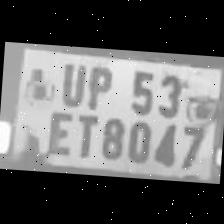0: (123, 113, 152, 163)
3: (153, 67, 184, 117)
4: (149, 115, 178, 166)
5: (122, 65, 156, 113)
7: (174, 117, 206, 168)
8: (95, 110, 126, 160)
E: (40, 104, 73, 158)
P: (81, 60, 115, 110)
T: (69, 108, 100, 158)
U: (53, 56, 87, 106)
